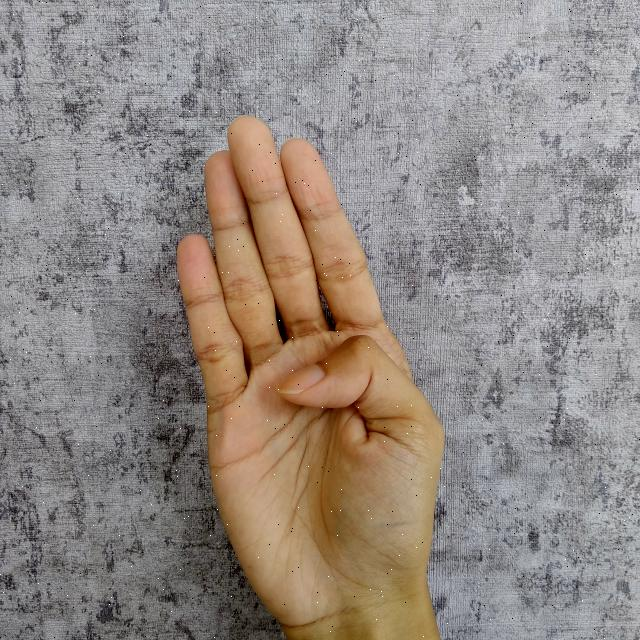B: (164, 111, 466, 640)
